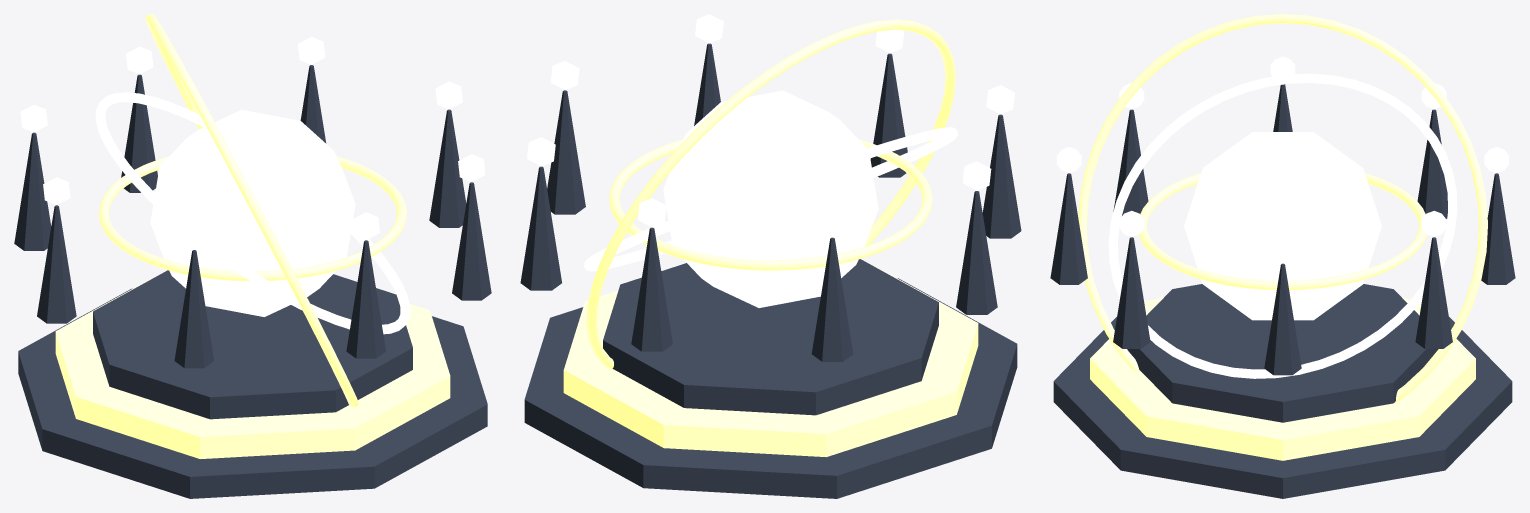
The model's file is gpu-blender-v30.glb.
3 views of the same model, side by side, from view 1: azimuth 30°, elevation 25°; view 2: azimuth 150°, elevation 25°; view 3: azimuth 270°, elevation 25° (orthographic). The views are drawn at different scales.
Parts seen in each view (by area): view 1: Cylinder.002, SovereignCore_schema-illustrator-studio, Cylinder, Cylinder.001, Torus.001, Torus.002, Torus, Cone.005, Cone.007, Cone.004, Cone.006, Cone (+11 smaller); view 2: Cylinder.002, SovereignCore_schema-illustrator-studio, Cylinder, Cylinder.001, Torus.002, Torus.001, Torus, Cone.001, Cone.003, Cone.002, Cone.004, Cone (+11 smaller); view 3: SovereignCore_schema-illustrator-studio, Cylinder.002, Cylinder, Cylinder.001, Torus.002, Torus.001, Torus, Cone, Cone.001, Cone.007, Cone.006, Cone.002 (+8 smaller).
Part boxes in pixels (x1=…): Cylinder.002: x1=93, y1=270, x2=412, y2=419; SovereignCore_schema-illustrator-studio: x1=150, y1=109, x2=355, y2=316; Cylinder: x1=18, y1=288, x2=487, y2=498; Cylinder.001: x1=55, y1=278, x2=450, y2=458; Torus.001: x1=95, y1=92, x2=410, y2=334; Torus.002: x1=145, y1=14, x2=358, y2=407; Torus: x1=99, y1=156, x2=406, y2=281; Cone.005: x1=174, y1=250, x2=214, y2=368; Cone.007: x1=452, y1=182, x2=491, y2=300; Cone.004: x1=37, y1=205, x2=76, y2=323; Cone.006: x1=346, y1=240, x2=385, y2=358; Cone: x1=429, y1=109, x2=466, y2=227; Cylinder.002: x1=603, y1=259, x2=938, y2=415; SovereignCore_schema-illustrator-studio: x1=663, y1=90, x2=878, y2=307; Cylinder: x1=524, y1=278, x2=1017, y2=498; Cylinder.001: x1=563, y1=268, x2=978, y2=457; Torus.002: x1=586, y1=19, x2=955, y2=369; Torus.001: x1=584, y1=127, x2=957, y2=271; Torus: x1=609, y1=139, x2=932, y2=270; Cone.001: x1=520, y1=166, x2=561, y2=290; Cone.003: x1=811, y1=237, x2=853, y2=361; Cone.002: x1=631, y1=227, x2=672, y2=351; Cone.004: x1=956, y1=191, x2=997, y2=314; Cone: x1=547, y1=90, x2=585, y2=214; SovereignCore_schema-illustrator-studio: x1=1184, y1=132, x2=1381, y2=320; Cylinder.002: x1=1127, y1=284, x2=1438, y2=422; Cylinder: x1=1053, y1=317, x2=1512, y2=498; Cylinder.001: x1=1090, y1=298, x2=1475, y2=460; Torus.002: x1=1078, y1=14, x2=1487, y2=402; Torus.001: x1=1108, y1=73, x2=1457, y2=378; Torus: x1=1139, y1=173, x2=1426, y2=290; Cone: x1=1264, y1=263, x2=1301, y2=375; Cone.001: x1=1415, y1=237, x2=1452, y2=348; Cone.007: x1=1113, y1=237, x2=1150, y2=348; Cone.006: x1=1050, y1=173, x2=1087, y2=284; Cone.002: x1=1481, y1=173, x2=1515, y2=284.
Size of the model in its own units: 4.41 by 3.72 by 4.46.
